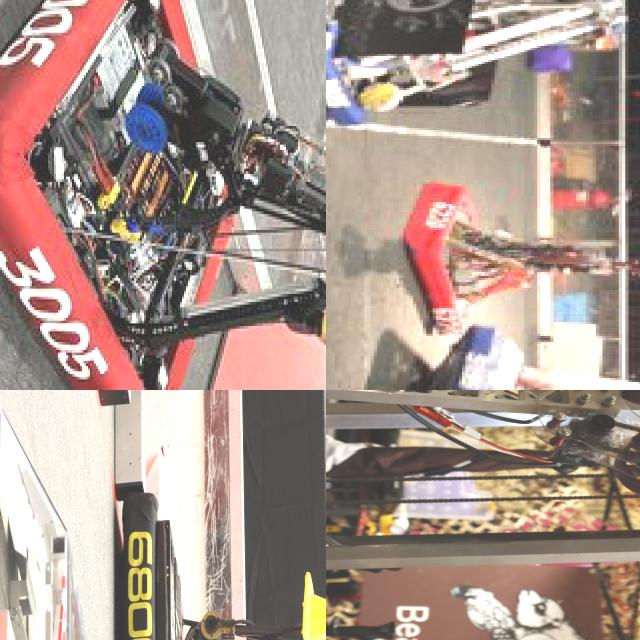FRC-Robots: (0, 0, 326, 390), (343, 390, 640, 578), (326, 0, 609, 147), (98, 483, 326, 640), (403, 185, 640, 329), (354, 336, 640, 390)
